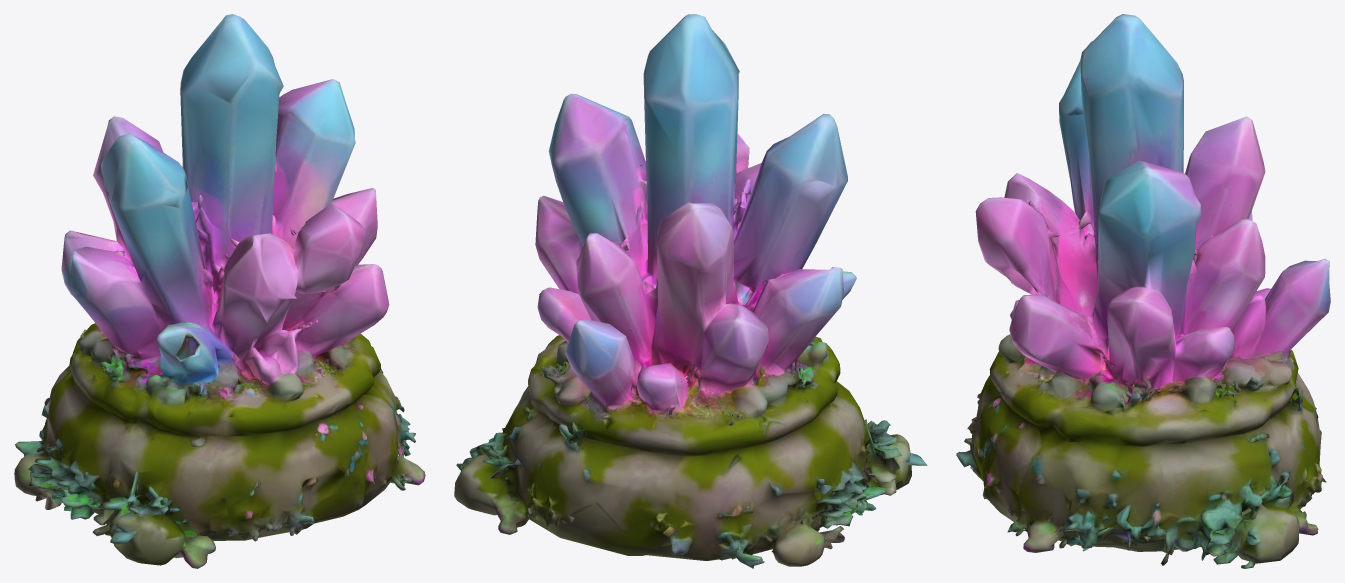
File: crystal_big.glb
3 views of the same model, side by side, from view 1: azimuth 30°, elevation 25°; view 2: azimuth 150°, elevation 25°; view 3: azimuth 270°, elevation 25° (orthographic).
Bounding box in the file's own units: 1.59 × 2 × 1.44.
Materials: 1 (1 with a texture image).
